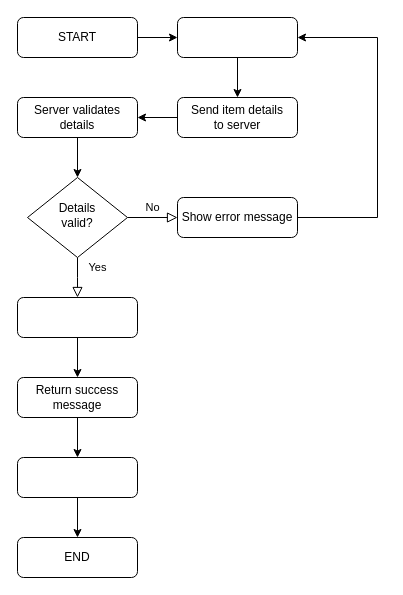
This 403x595 diagram has some shape labels left out. The shapes that lost their labels are listed below. From the top down, each one's centre as x and y in pixels, then its label:
point (237, 37): User enters item details
point (77, 317): Save item to database
point (77, 477): Show success message
